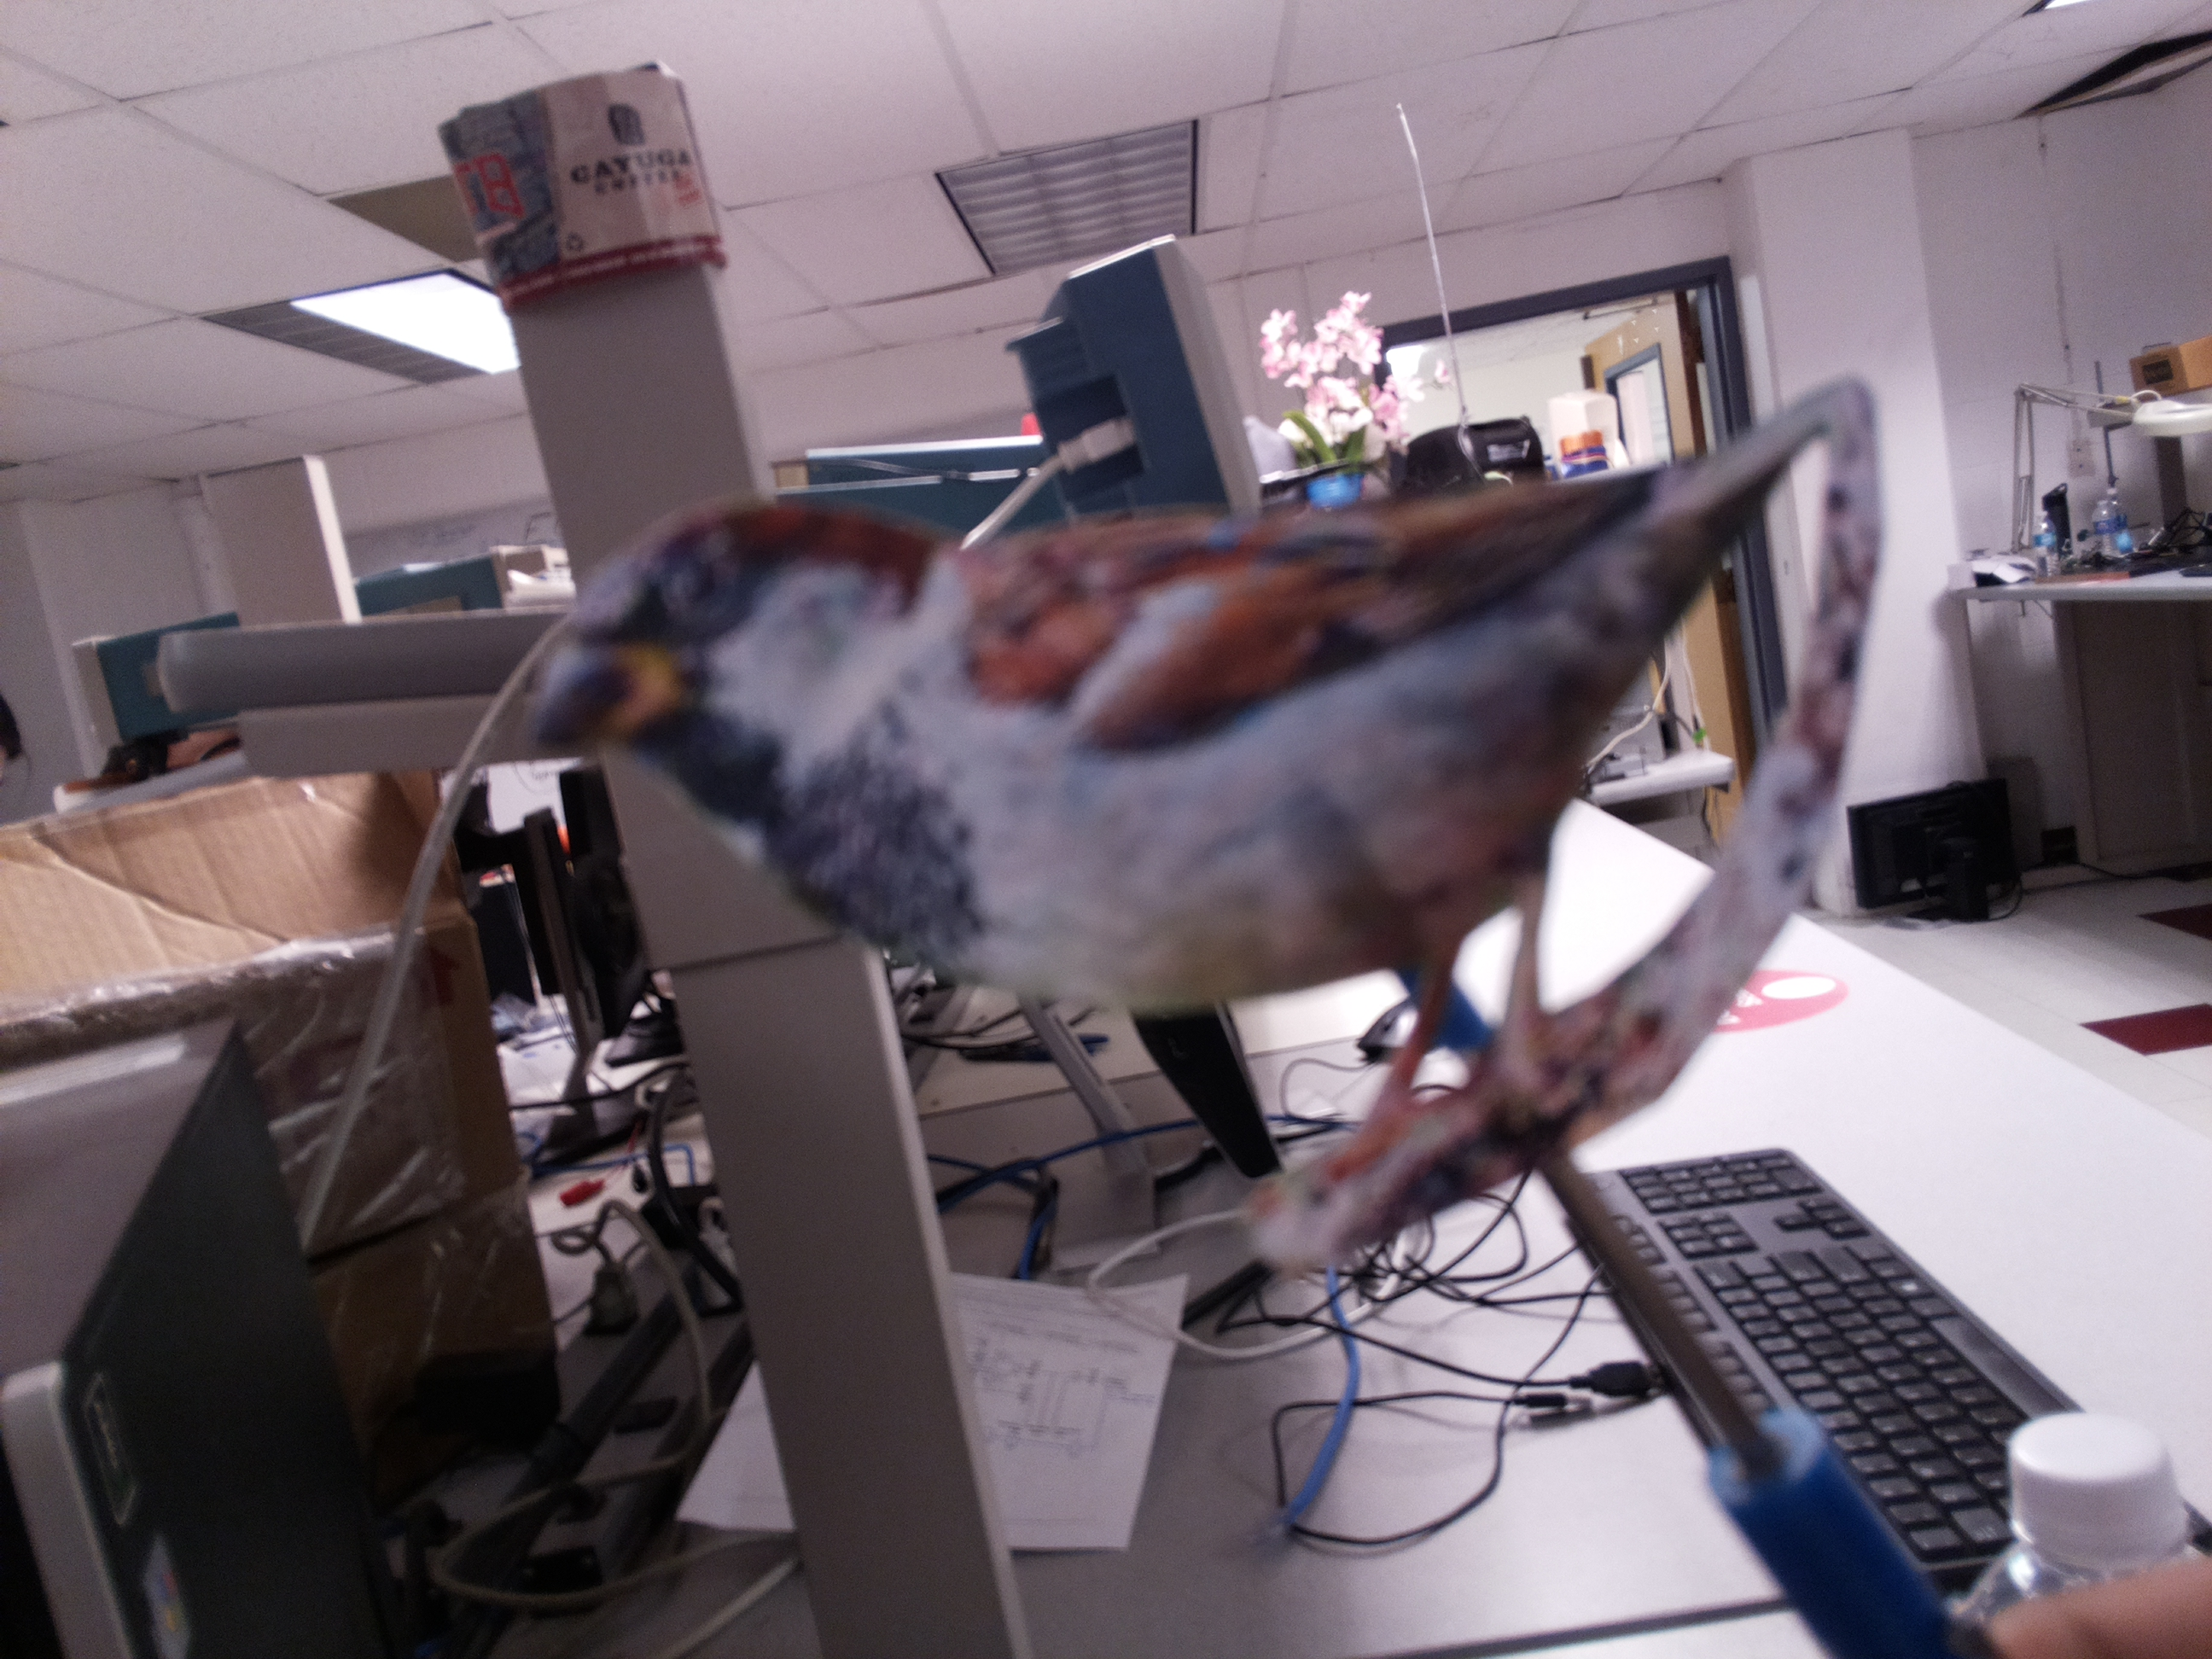bird: (526, 376, 1839, 1183)
